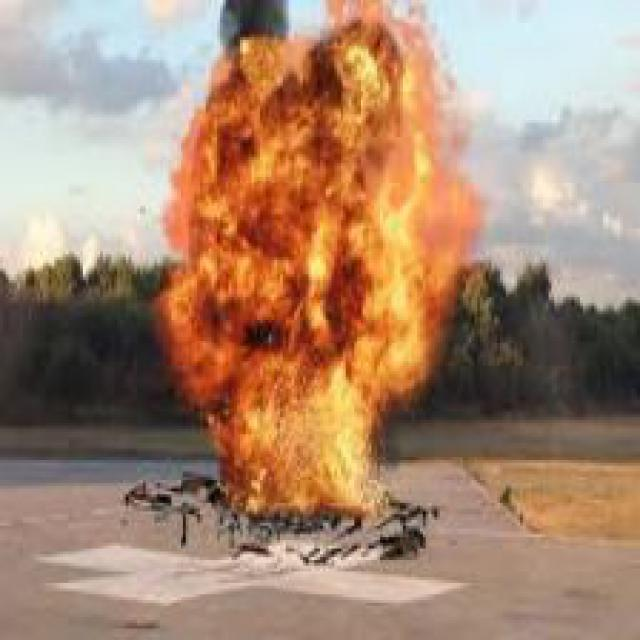fire: (143, 11, 488, 528)
